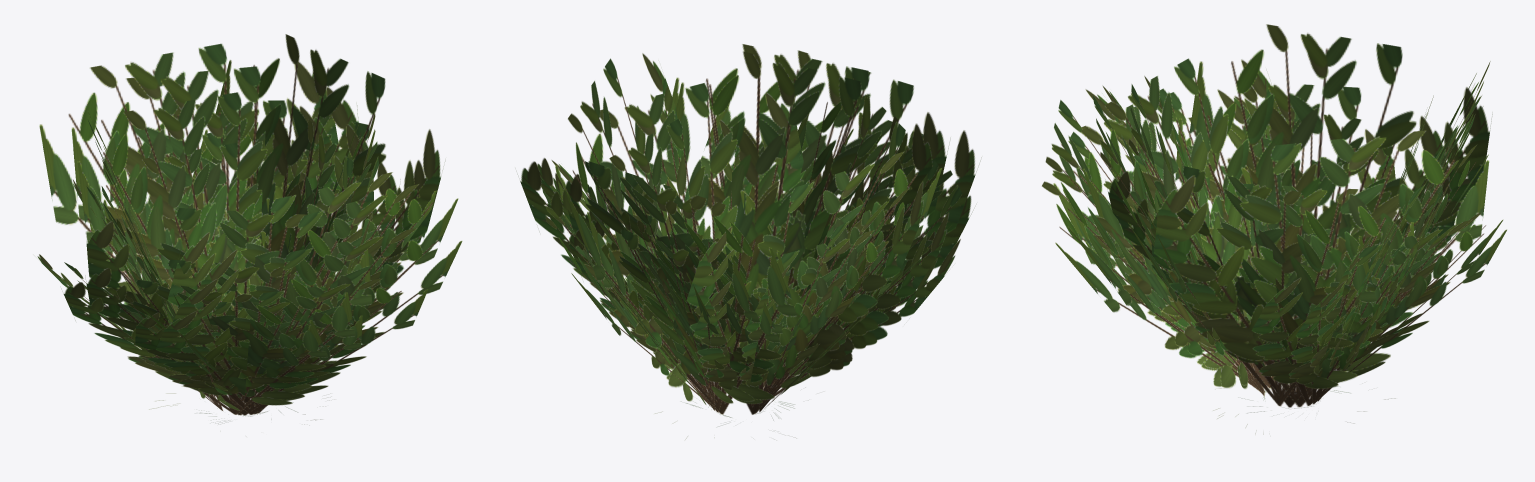
File: shrub.glb
3 views of the same model, side by side, from view 1: azimuth 30°, elevation 25°; view 2: azimuth 150°, elevation 25°; view 3: azimuth 270°, elevation 25° (orthographic). The views are drawn at different scales.
Parts seen in each view (by area): view 1: shrub_LOD0; view 2: shrub_LOD0; view 3: shrub_LOD0.
Part boxes in pixels (x1=…): shrub_LOD0: x1=37, y1=34, x2=462, y2=419; shrub_LOD0: x1=520, y1=44, x2=980, y2=438; shrub_LOD0: x1=1042, y1=24, x2=1506, y2=433.
Size of what is drawn, in the model's own units: 2.72 by 1.88 by 2.62.
1 material, 1 textured.
